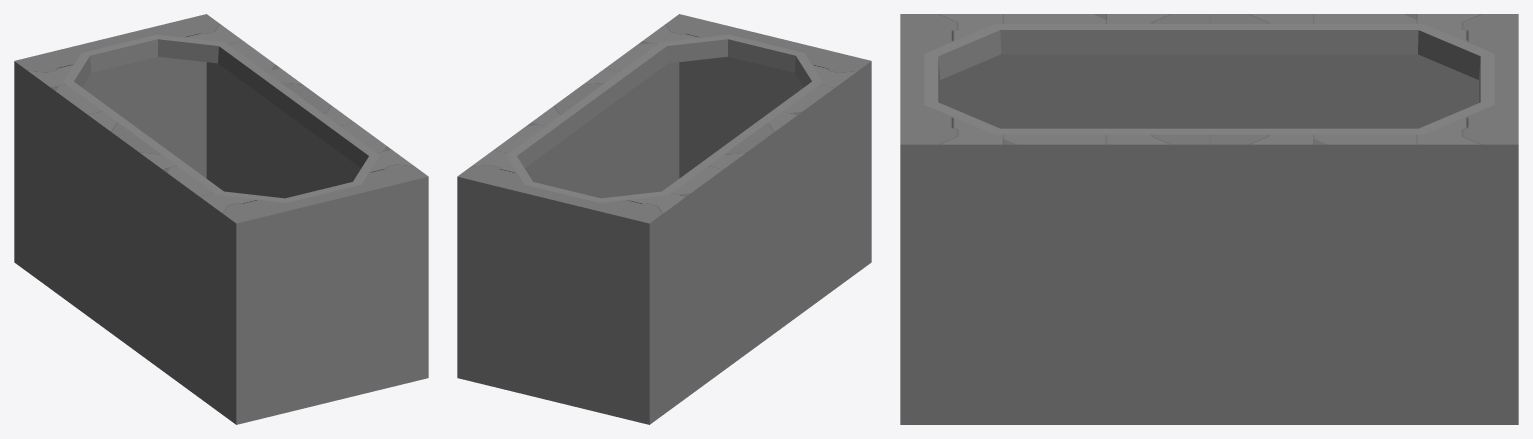
The model's file is SM_Floor_5x10_1.fbx.
3 views of the same model, side by side, from view 1: azimuth 30°, elevation 25°; view 2: azimuth 150°, elevation 25°; view 3: azimuth 270°, elevation 25° (orthographic). The views are drawn at different scales.
Parts seen in each view (by area): view 1: SM_Floor_5x10_1; view 2: SM_Floor_5x10_1; view 3: SM_Floor_5x10_1.
Part boxes in pixels (bbox=[...]): SM_Floor_5x10_1: bbox=[14, 14, 428, 424]; SM_Floor_5x10_1: bbox=[457, 14, 871, 424]; SM_Floor_5x10_1: bbox=[900, 14, 1518, 424].
Size of the model in its own units: 500 by 500 by 1000.
